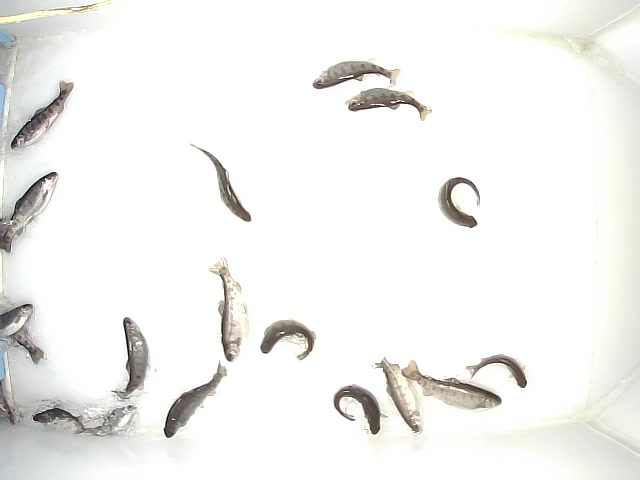fish: (186, 138, 254, 225), (401, 355, 504, 412), (1, 169, 63, 258), (163, 358, 231, 439), (6, 79, 76, 151), (374, 354, 429, 432), (208, 255, 248, 362), (108, 314, 153, 400), (345, 87, 434, 123), (332, 383, 391, 434), (311, 58, 405, 90), (437, 175, 484, 230), (259, 319, 317, 361), (463, 353, 530, 389), (28, 400, 88, 437), (74, 407, 137, 438)
